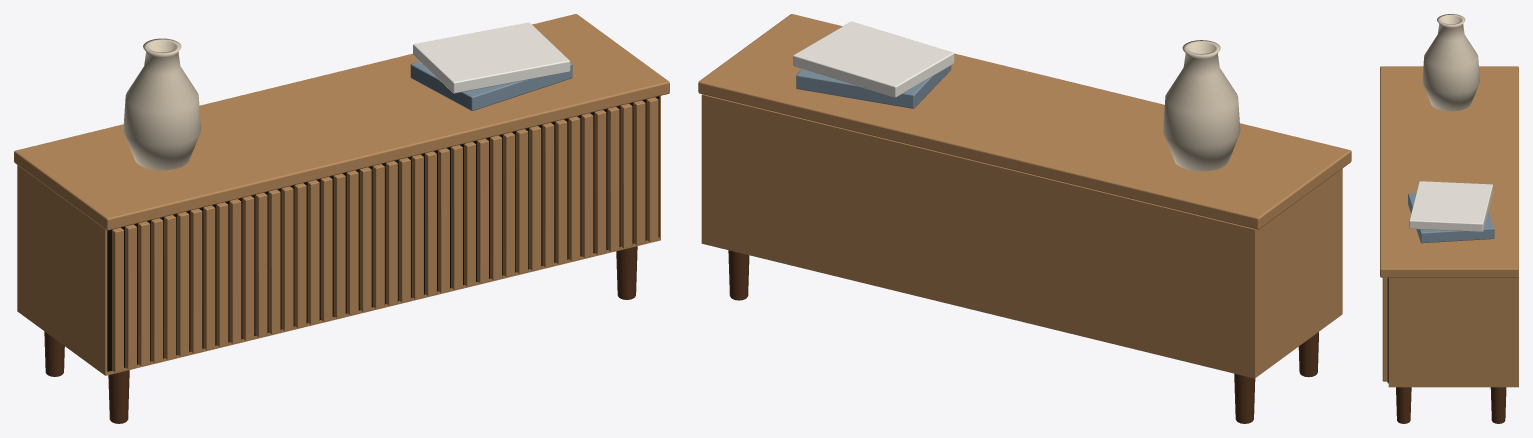
Rendered from rack.glb.
3 renders of one model, left to right at view 1: azimuth 30°, elevation 25°; view 2: azimuth 150°, elevation 25°; view 3: azimuth 270°, elevation 25°, orthographic. The views are drawn at different scales.
Visible parts, largest first — view 1: rack_tampo, rack_corpo, rack_fundo_ripas, rack_vaso, rack_livro.001, rack_livro, rack_ripa.009, rack_ripa.006, rack_ripa.012, rack_ripa.015, rack_ripa.023, rack_ripa.029 (+39 smaller); view 2: rack_corpo, rack_tampo, rack_vaso, rack_livro.001, rack_livro, rack_pe.003, rack_pe.001, rack_pe; view 3: rack_tampo, rack_corpo, rack_vaso, rack_livro.001, rack_livro, rack_ripa.041, rack_pe.003, rack_pe.002, rack_fundo_ripas.
Part boxes in pixels (<box>): rack_tampo: <box>14,14,669,230</box>; rack_corpo: <box>17,96,660,375</box>; rack_fundo_ripas: <box>107,96,659,371</box>; rack_vaso: <box>123,38,200,170</box>; rack_livro.001: <box>413,22,570,93</box>; rack_livro: <box>410,61,572,110</box>; rack_ripa.009: <box>229,199,241,343</box>; rack_ripa.006: <box>190,208,202,353</box>; rack_ripa.012: <box>268,189,280,334</box>; rack_ripa.015: <box>307,180,319,324</box>; rack_ripa.023: <box>411,154,423,299</box>; rack_ripa.029: <box>490,135,502,280</box>; rack_corpo: <box>701,94,1342,378</box>; rack_tampo: <box>698,14,1351,229</box>; rack_vaso: <box>1163,40,1240,171</box>; rack_livro.001: <box>793,21,954,97</box>; rack_livro: <box>796,66,951,108</box>; rack_pe.003: <box>728,250,749,300</box>; rack_pe.001: <box>1234,373,1255,423</box>; rack_pe: <box>1298,332,1318,377</box>; rack_tampo: <box>1380,66,1518,277</box>; rack_corpo: <box>1388,277,1518,387</box>; rack_vaso: <box>1422,14,1479,111</box>; rack_livro.001: <box>1409,181,1492,231</box>; rack_livro: <box>1408,193,1494,243</box>; rack_ripa.041: <box>1382,277,1387,381</box>; rack_pe.003: <box>1490,387,1506,423</box>; rack_pe.002: <box>1396,387,1411,423</box>; rack_fundo_ripas: <box>1387,277,1388,383</box>.
Bounding box in the file's own units: 1.42 × 0.8 × 0.41.
